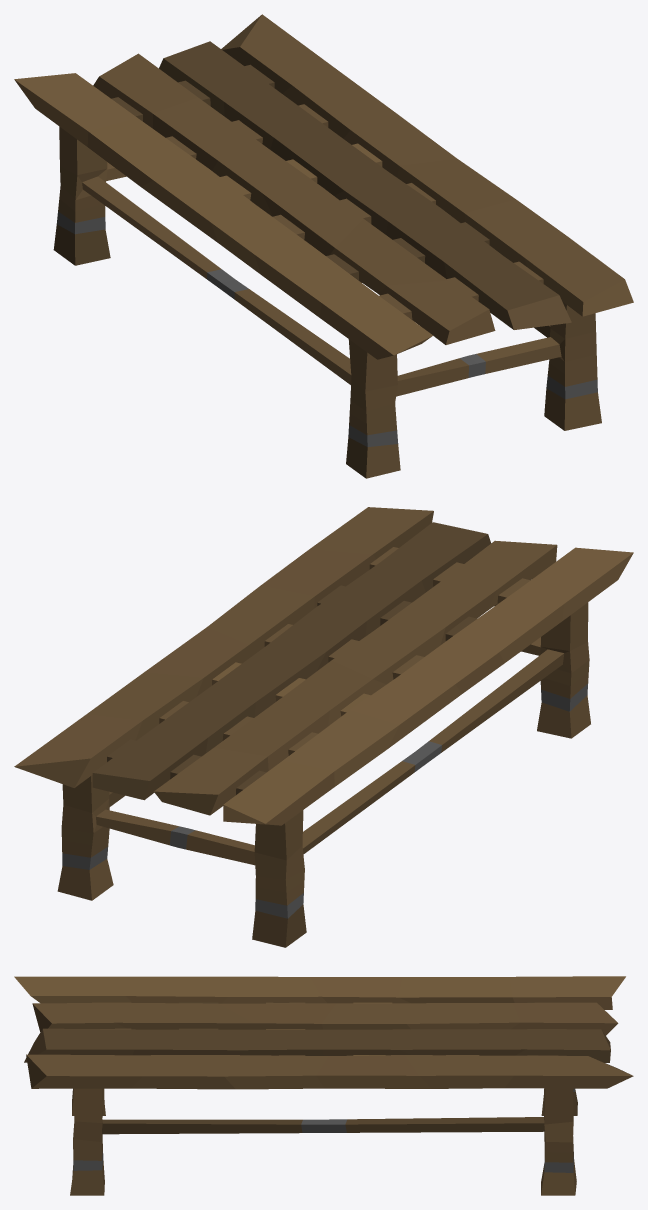
The model's file is Table.fbx.
3 views of the same model, one above another, from view 1: azimuth 30°, elevation 25°; view 2: azimuth 150°, elevation 25°; view 3: azimuth 270°, elevation 25° (orthographic). The views are drawn at different scales.
Parts seen in each view (by area): view 1: Table; view 2: Table; view 3: Table.
Part boxes in pixels (left/top/right/bottom): Table: left=14, top=14, right=633, bottom=478; Table: left=14, top=507, right=633, bottom=947; Table: left=14, top=976, right=633, bottom=1195.
Bounding box in the file's own units: 83.89 × 48.2 × 219.
